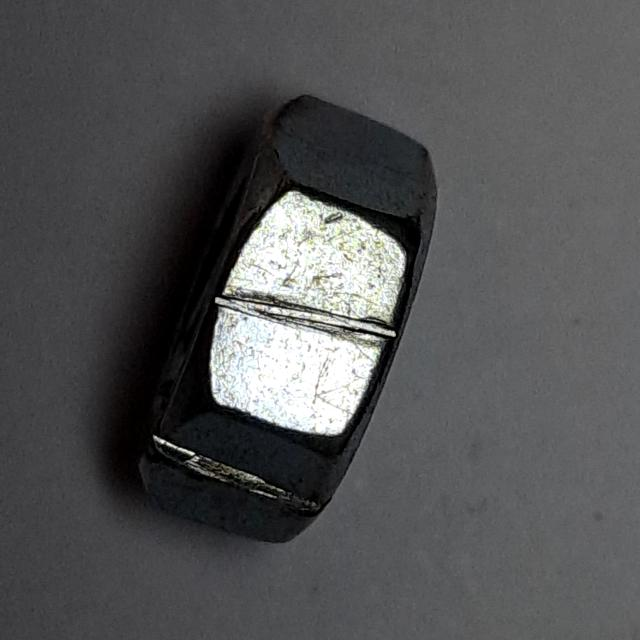Side_Scratches: (120, 81, 476, 551)
